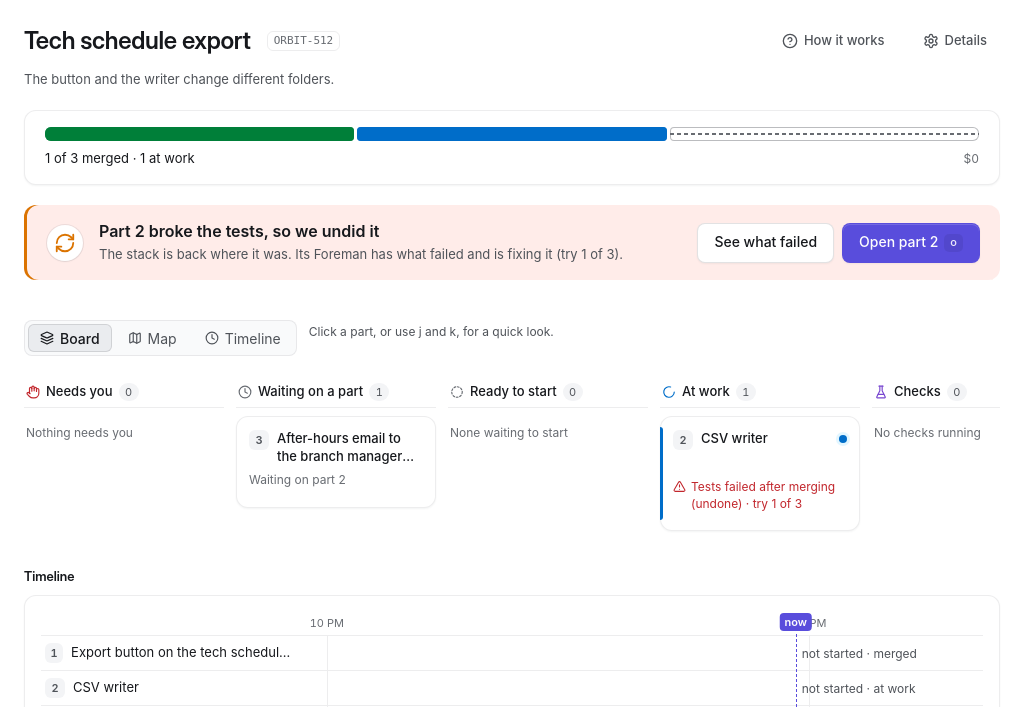
one stack › tests failed after merging: the merge was undone, its Foreman is fixing it, See what failed shows the end of the output
The width and height of the screenshot is (1024, 707).
Expected: the heading "Tech schedule export" is shown, [24,26,251,56]
Expected: the element named "Next step" shows "Part 2 broke the tests, so we undid it", [99,221,379,241]
Click the button "See what failed" at coordinates (766, 242), box [697,222,834,262]
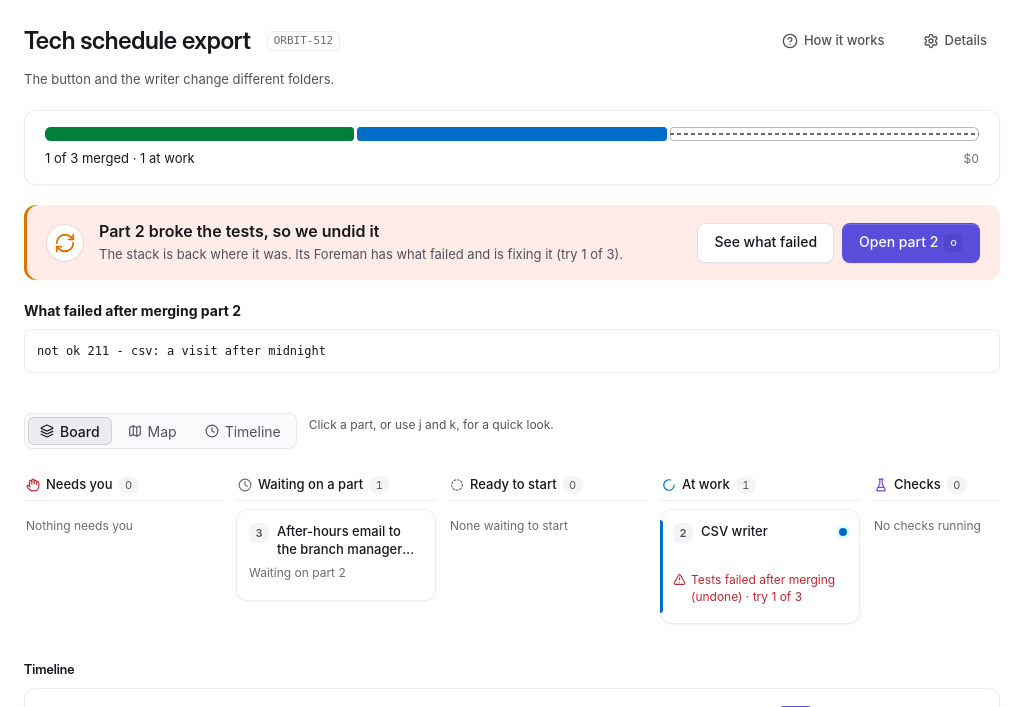
Expected: the element "What failed" shows "not ok 211", [37,344,326,358]
